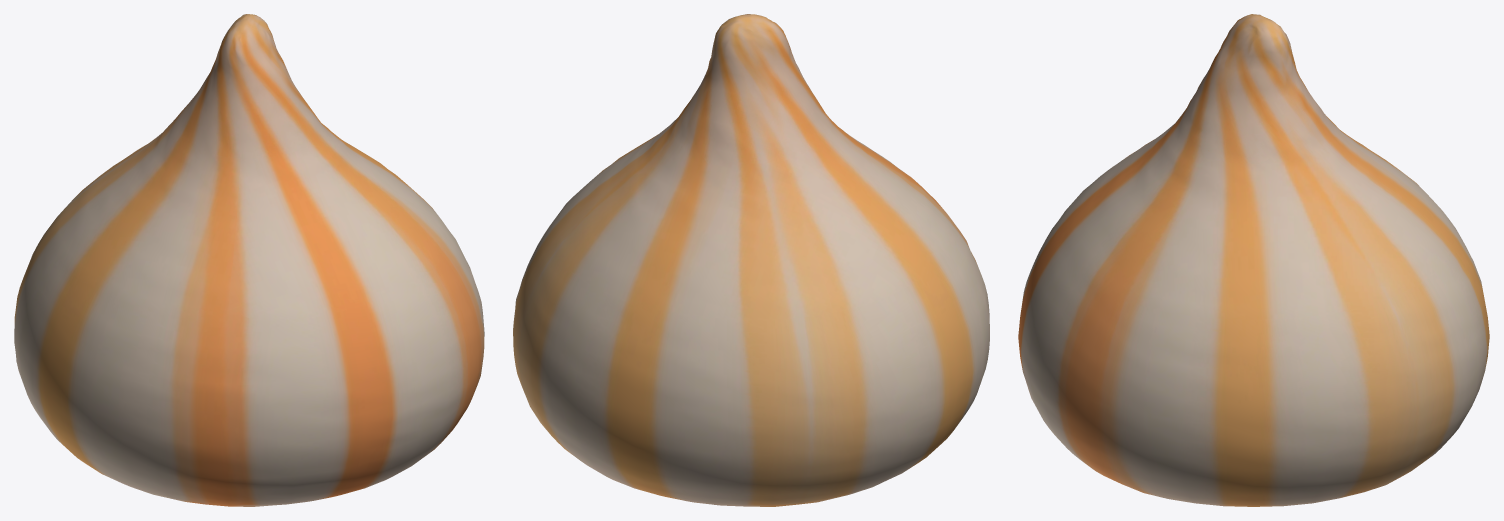
Rendered from optimized_glb.glb.
3 renders of one model, left to right at view 1: azimuth 30°, elevation 25°; view 2: azimuth 150°, elevation 25°; view 3: azimuth 270°, elevation 25°, orthographic.
Visible parts, largest first — view 1: Striped Fish Dumpling; view 2: Striped Fish Dumpling; view 3: Striped Fish Dumpling.
Boxes of the visible parts, x1,y1,x2,y2 form: Striped Fish Dumpling: [14, 14, 484, 506]; Striped Fish Dumpling: [513, 14, 989, 506]; Striped Fish Dumpling: [1018, 14, 1489, 506].
Size of the model in its own units: 0.9746 by 0.998 by 0.9785.
1 material, 1 textured.
